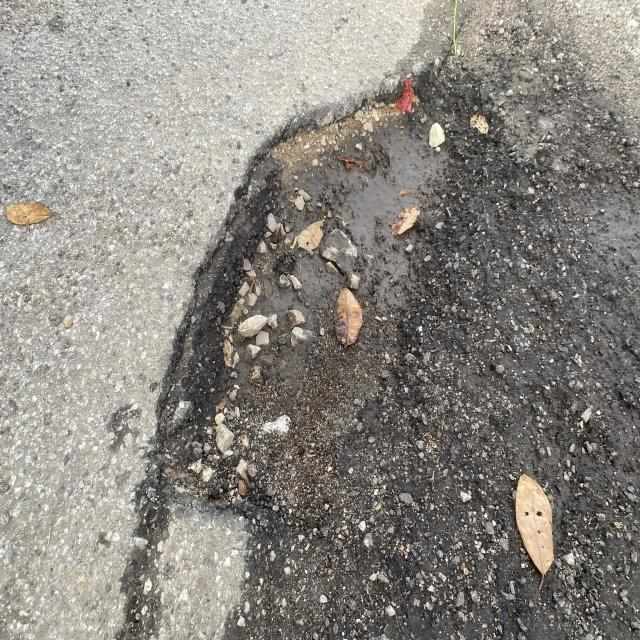Pothole: (130, 53, 454, 550)
